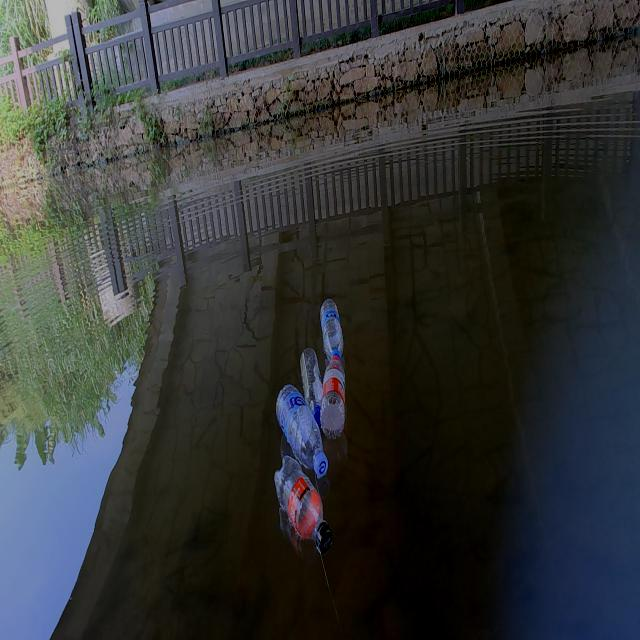bottle: (260, 452, 340, 557), (268, 380, 334, 479), (316, 351, 350, 441), (314, 296, 348, 360), (298, 349, 324, 411)
